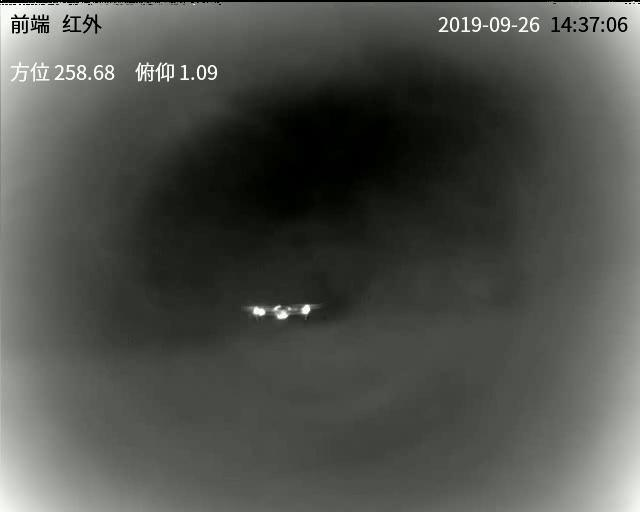DRONE: (250, 302, 315, 324)
